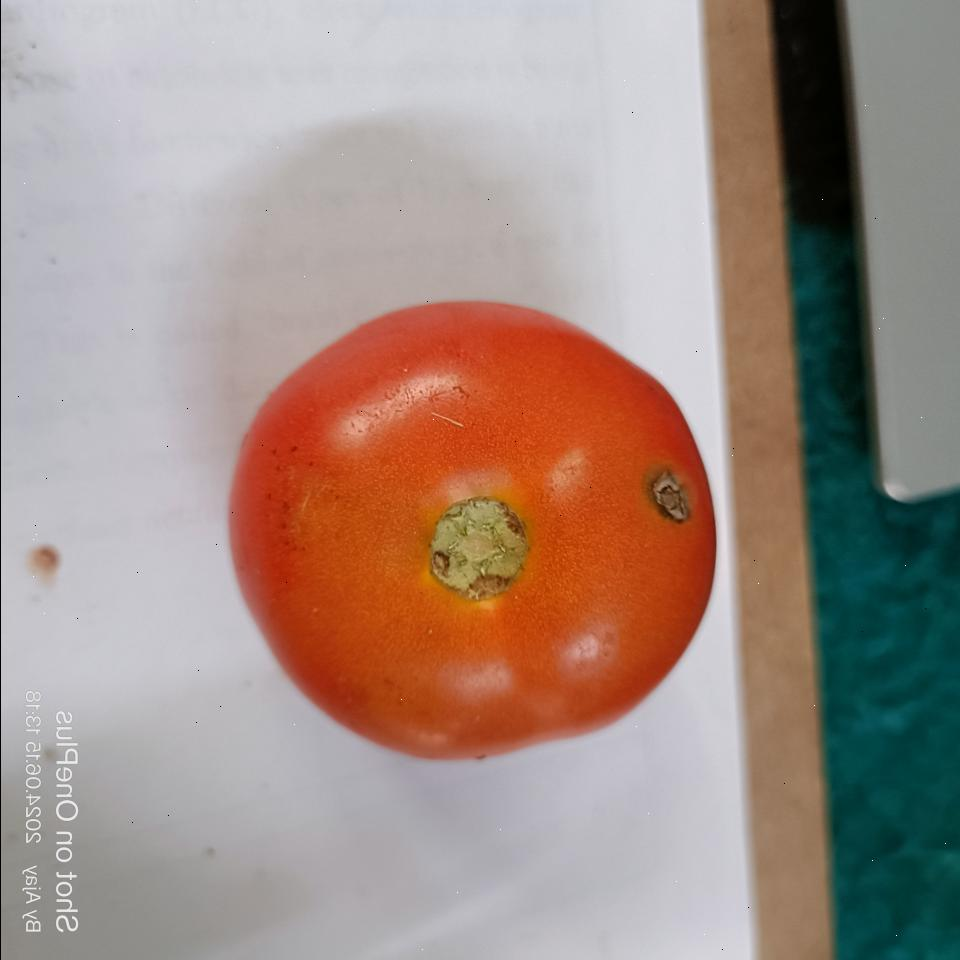Bacterial_Spot: (428, 499, 530, 604), (646, 469, 692, 525)
